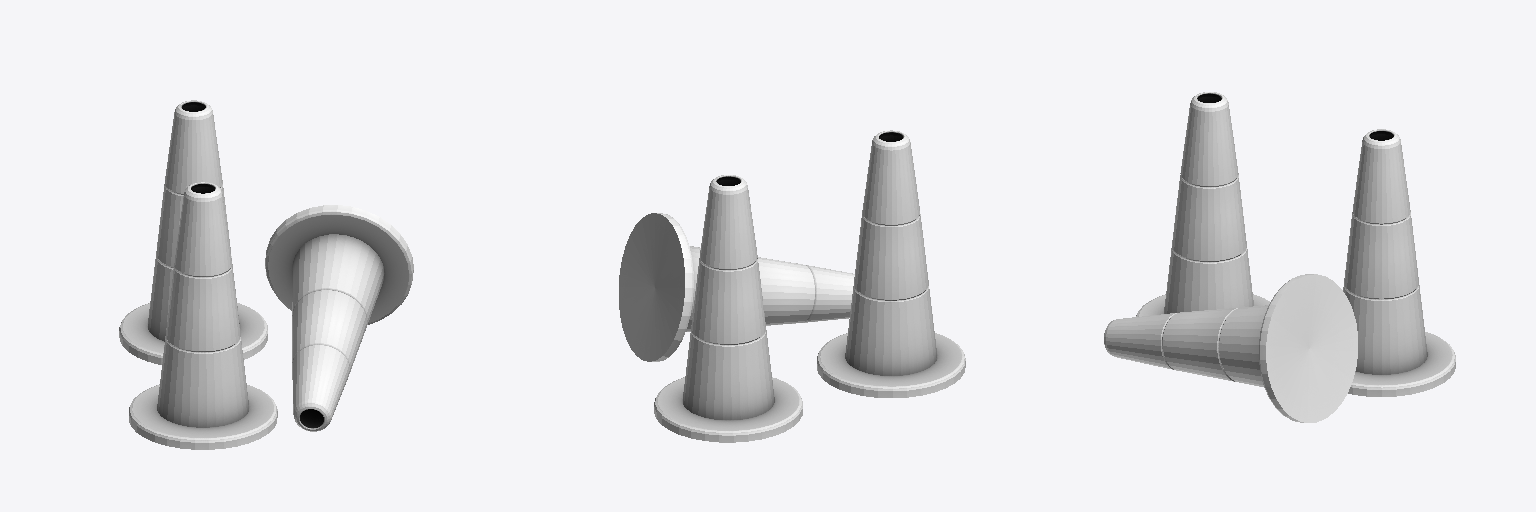
3 renders of one model, left to right at view 1: azimuth 30°, elevation 25°; view 2: azimuth 150°, elevation 25°; view 3: azimuth 270°, elevation 25°, orthographic.
Visible parts, largest first — view 1: traffic_cone.001, traffic_cone.000_traffic_cone.002, traffic_cone.002_traffic_cone.003; view 2: traffic_cone.002_traffic_cone.003, traffic_cone.001, traffic_cone.000_traffic_cone.002; view 3: traffic_cone.000_traffic_cone.002, traffic_cone.002_traffic_cone.003, traffic_cone.001.
Part boxes in pixels (left/top/right/bottom): traffic_cone.001: left=129, top=182, right=277, bottom=449; traffic_cone.000_traffic_cone.002: left=265, top=205, right=413, bottom=431; traffic_cone.002_traffic_cone.003: left=119, top=100, right=267, bottom=364; traffic_cone.002_traffic_cone.003: left=654, top=175, right=802, bottom=442; traffic_cone.001: left=817, top=130, right=965, bottom=397; traffic_cone.000_traffic_cone.002: left=619, top=213, right=854, bottom=361; traffic_cone.000_traffic_cone.002: left=1104, top=274, right=1357, bottom=422; traffic_cone.002_traffic_cone.003: left=1343, top=129, right=1455, bottom=396; traffic_cone.001: left=1136, top=92, right=1269, bottom=316.
Size of the model in its own units: 4.61 by 3.33 by 4.61.
1 materials, 1 textured.